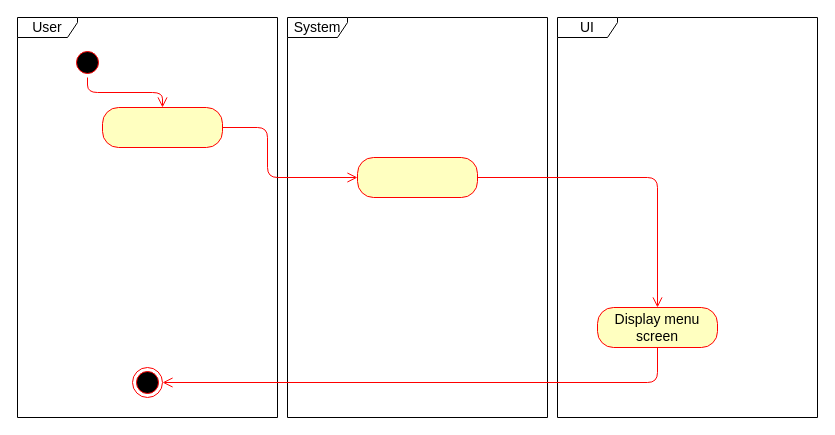
The diagram is 835 pixels wide and 435 high, and some of its shapes have lost their labels. The centre of each missing label's shape, as x and y in pixels:
Dispose all game objects: pixel 417 177
User clicks on close game: pixel 162 127
